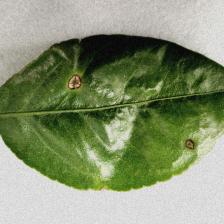canker: (56, 71, 204, 159)
